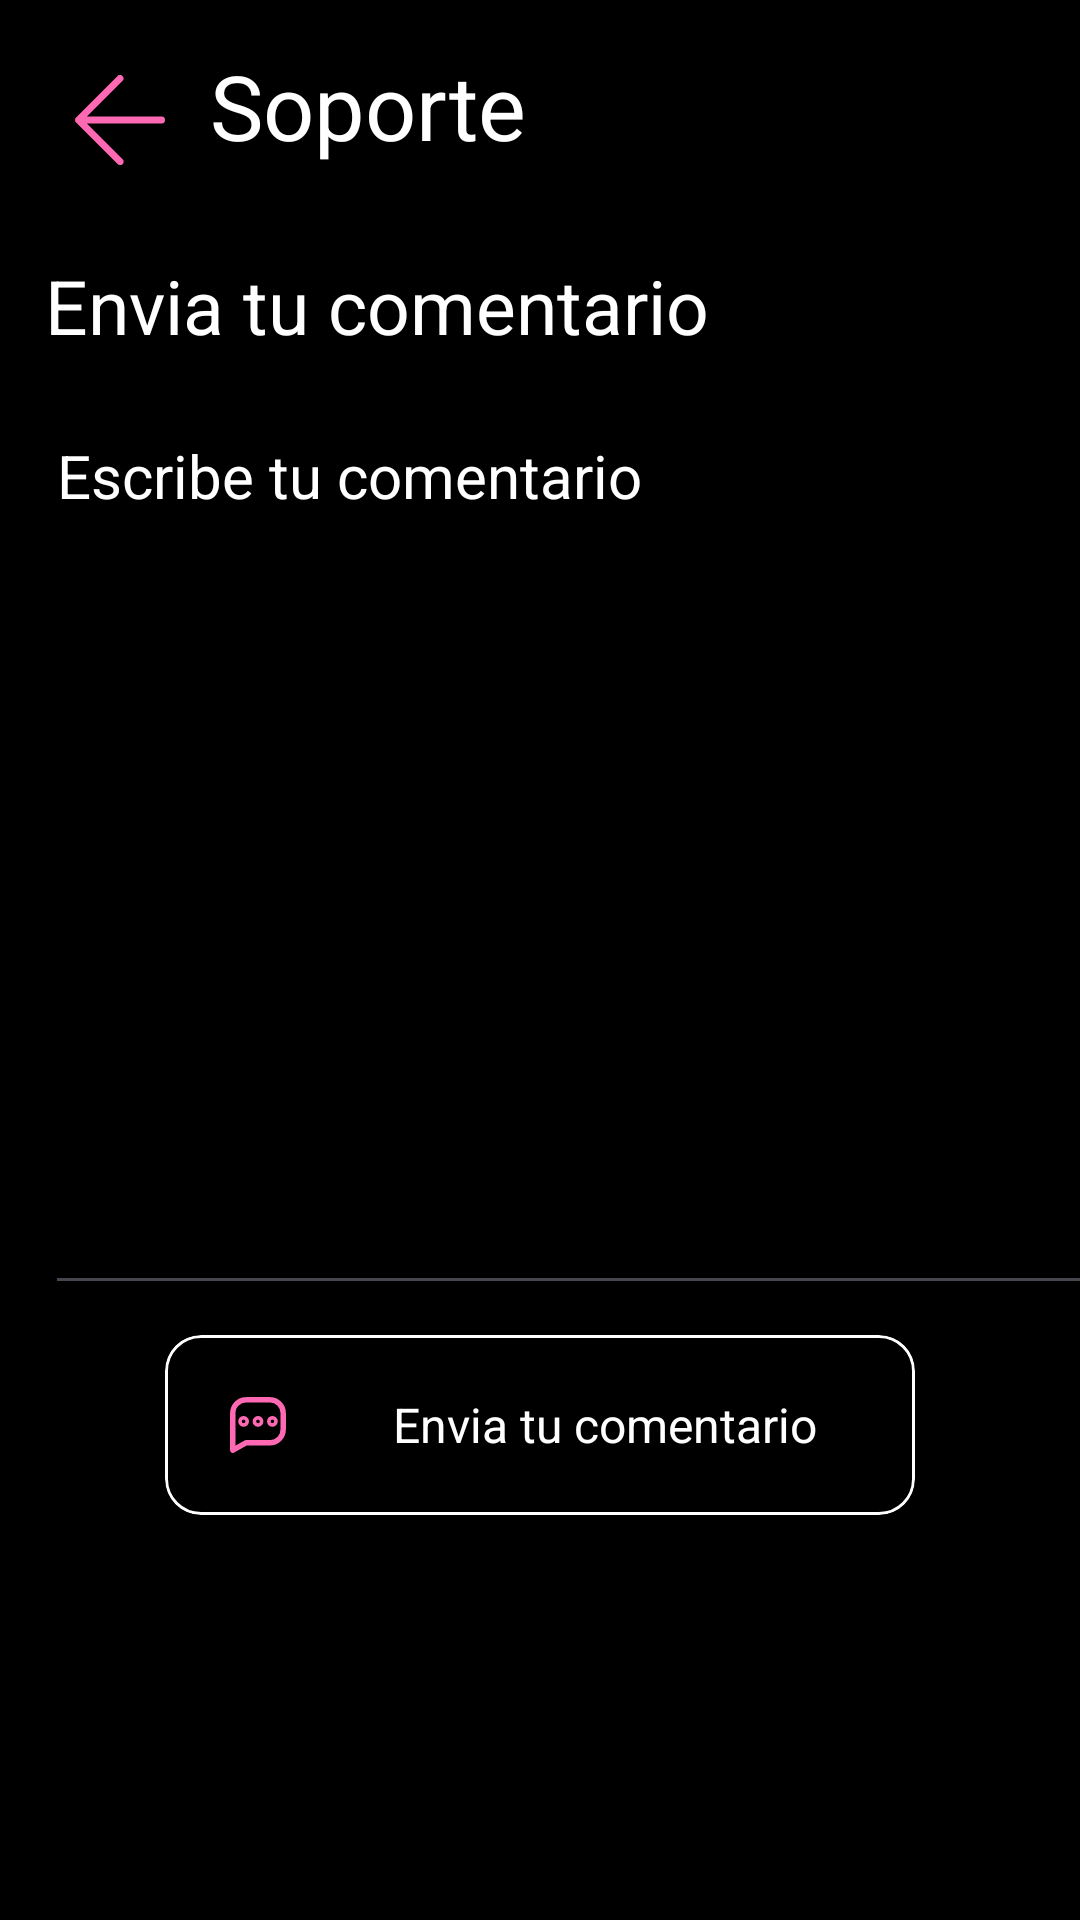

Locate icon controls on the screen. Image size 1080w x 1920h, boxes as box(x1, y1, x2, y2).
flecha atras: box(75, 75, 165, 165)
